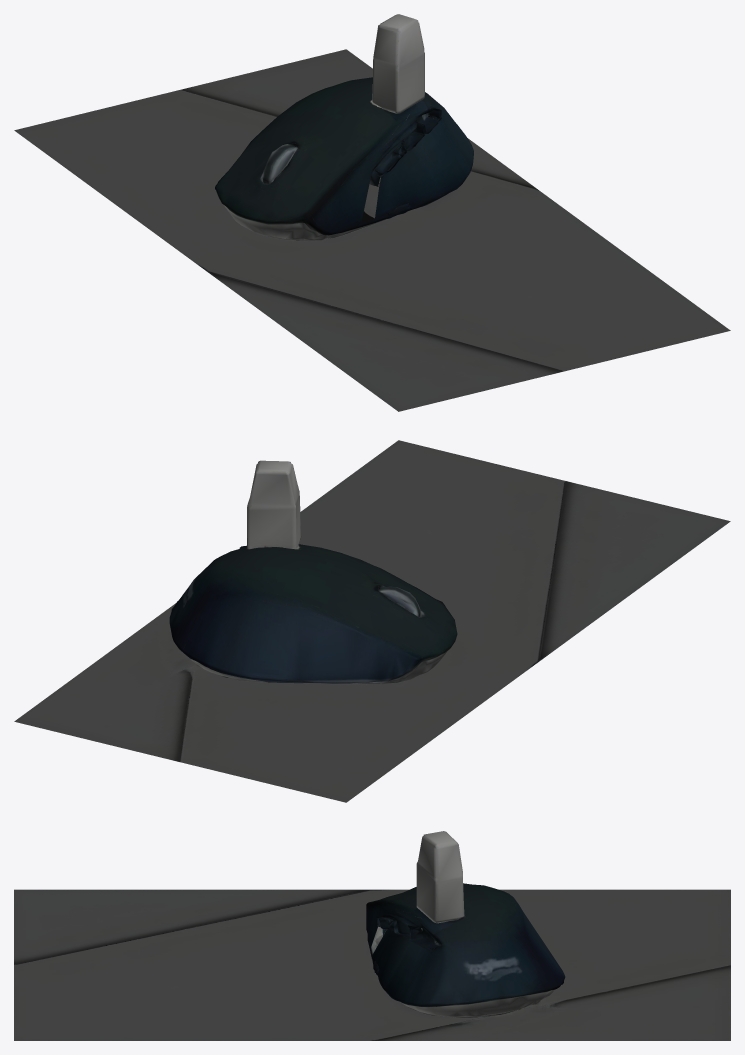
The model's file is object_6_asset_5e2c663d.glb.
The picture shows the model from 3 angles, top to bottom: view 1: azimuth 30°, elevation 25°; view 2: azimuth 150°, elevation 25°; view 3: azimuth 270°, elevation 25°; orthographic projection. The views are drawn at different scales.
Parts seen in each view (by area): view 1: tripo_node_dcccf3c5-20b7-4a5c-9e32-33341ed4c084; view 2: tripo_node_dcccf3c5-20b7-4a5c-9e32-33341ed4c084; view 3: tripo_node_dcccf3c5-20b7-4a5c-9e32-33341ed4c084.
Boxes of the visible parts, x1,y1,x2,y2 form: tripo_node_dcccf3c5-20b7-4a5c-9e32-33341ed4c084: (14,14,730,411); tripo_node_dcccf3c5-20b7-4a5c-9e32-33341ed4c084: (14,440,730,802); tripo_node_dcccf3c5-20b7-4a5c-9e32-33341ed4c084: (14,831,730,1040).
Size of the model in its own units: 0.498 by 0.2402 by 0.998.
1 material, 1 textured.
